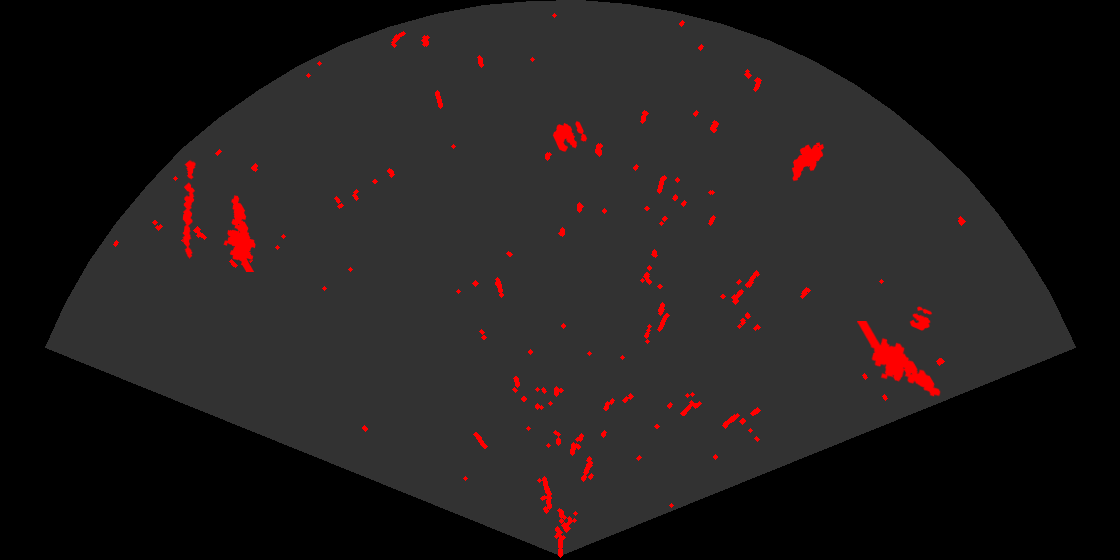AUV: (790, 141, 826, 182)
ball: (551, 120, 589, 153), (908, 305, 934, 332)
chain: (181, 158, 197, 259)
frogman: (857, 321, 942, 398), (222, 194, 257, 272)
